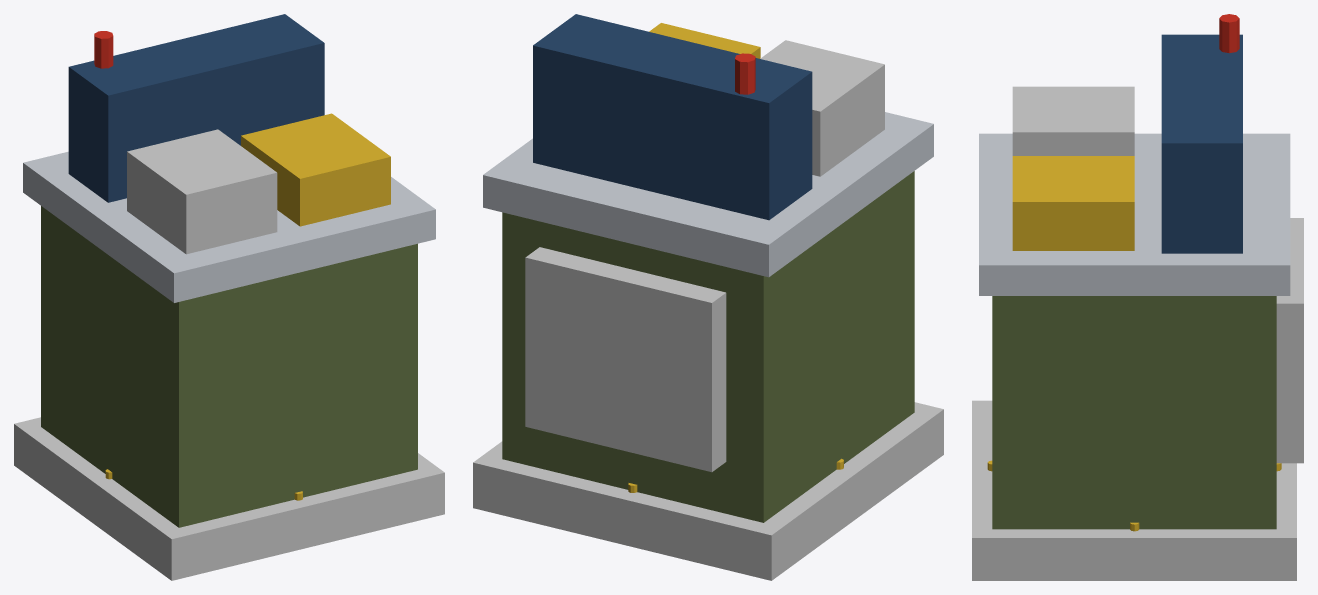
File: perk_workbench.obj
3 renders of one model, left to right at view 1: azimuth 30°, elevation 25°; view 2: azimuth 150°, elevation 25°; view 3: azimuth 270°, elevation 25°, orthographic. The views are drawn at different scales.
Visible parts, largest first — view 1: perk_workbench; view 2: perk_workbench; view 3: perk_workbench.
Boxes of the visible parts, x1=… form: perk_workbench: x1=14, y1=14, x2=444, y2=580; perk_workbench: x1=473, y1=14, x2=943, y2=580; perk_workbench: x1=972, y1=14, x2=1303, y2=580.
Size of the model in its own units: 0.96 by 1.48 by 0.98.
